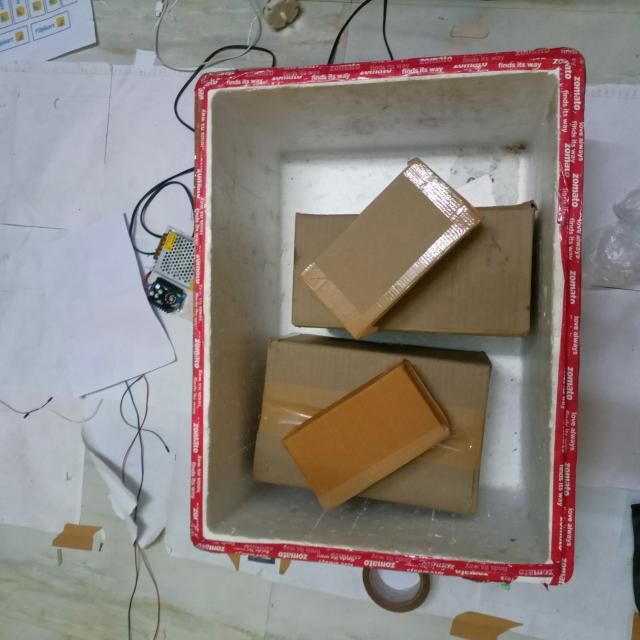box: (304, 159, 473, 334), (291, 373, 445, 516)
